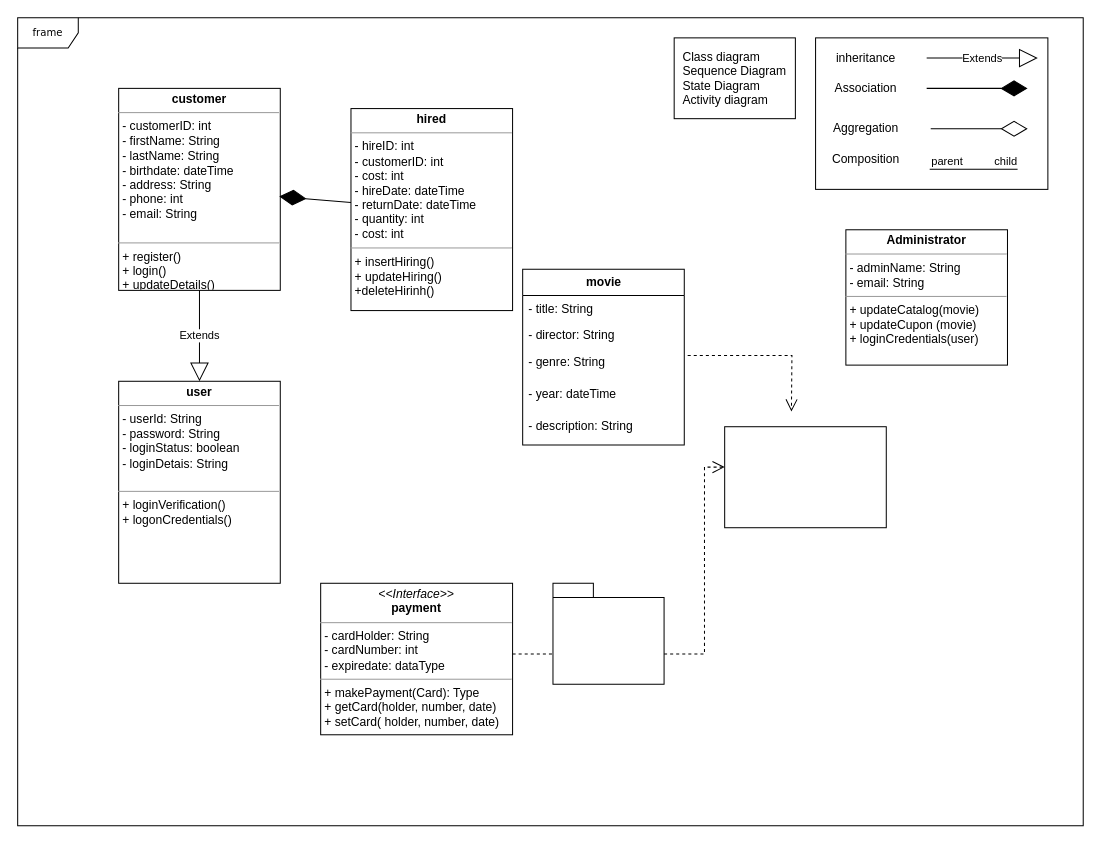
This 1101x843 diagram has some shape labels left out. The shapes that lost their labels are listed below. From the top down, each one's centre as x and y in pixels, then its label:
At pixel 805 477: "email - to: String - description: String + sendEmail(to,description)".
At pixel 608 633: "API payment paypal googlePay mastercard visa".
